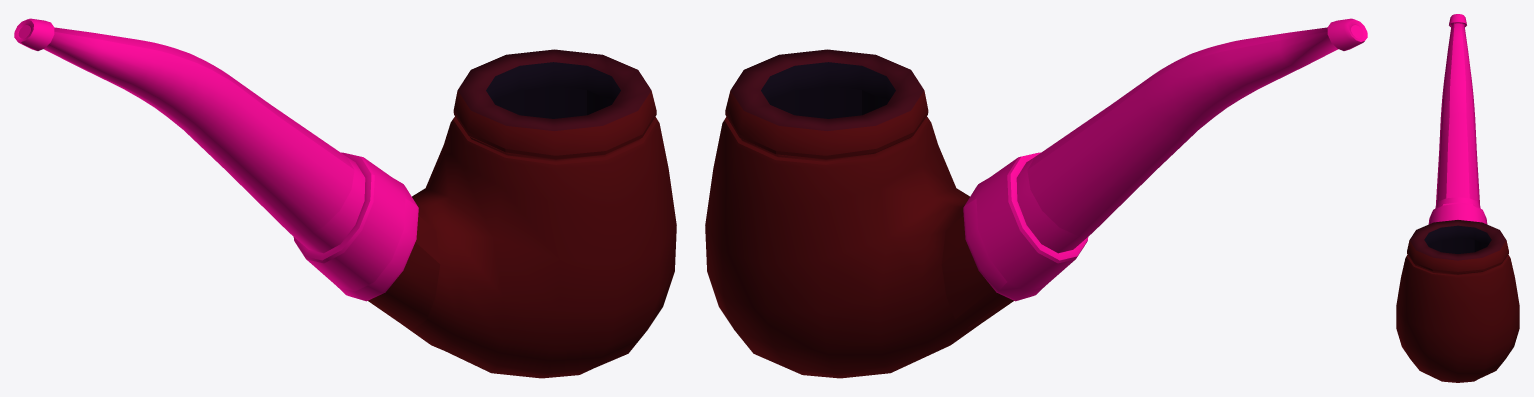
The model's file is O_Pipa.fbx.
3 renders of one model, left to right at view 1: azimuth 30°, elevation 25°; view 2: azimuth 150°, elevation 25°; view 3: azimuth 270°, elevation 25°, orthographic. The views are drawn at different scales.
Parts seen in each view (by area): view 1: Pipa; view 2: Pipa; view 3: Pipa.
Boxes of the visible parts, bbox=[...] form: Pipa: bbox=[14, 18, 676, 378]; Pipa: bbox=[705, 18, 1367, 378]; Pipa: bbox=[1396, 14, 1519, 382].
Bounding box in the file's own units: 4.11 × 2.84 × 1.36.
